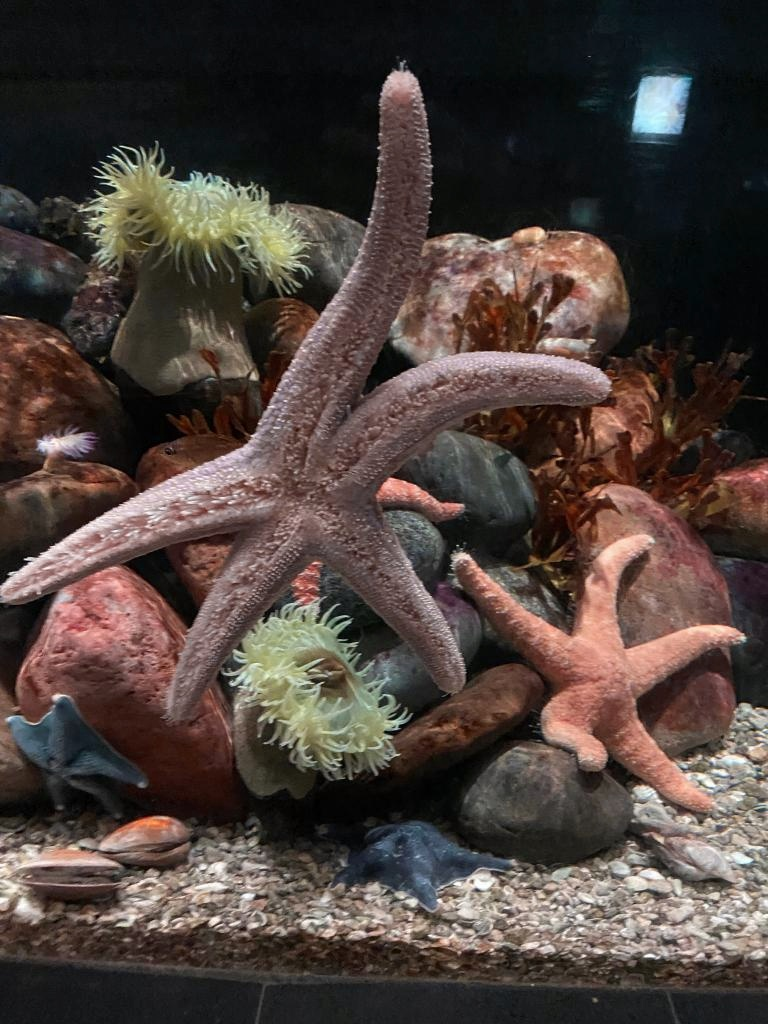starfish: (1, 69, 613, 727), (448, 532, 746, 816)
